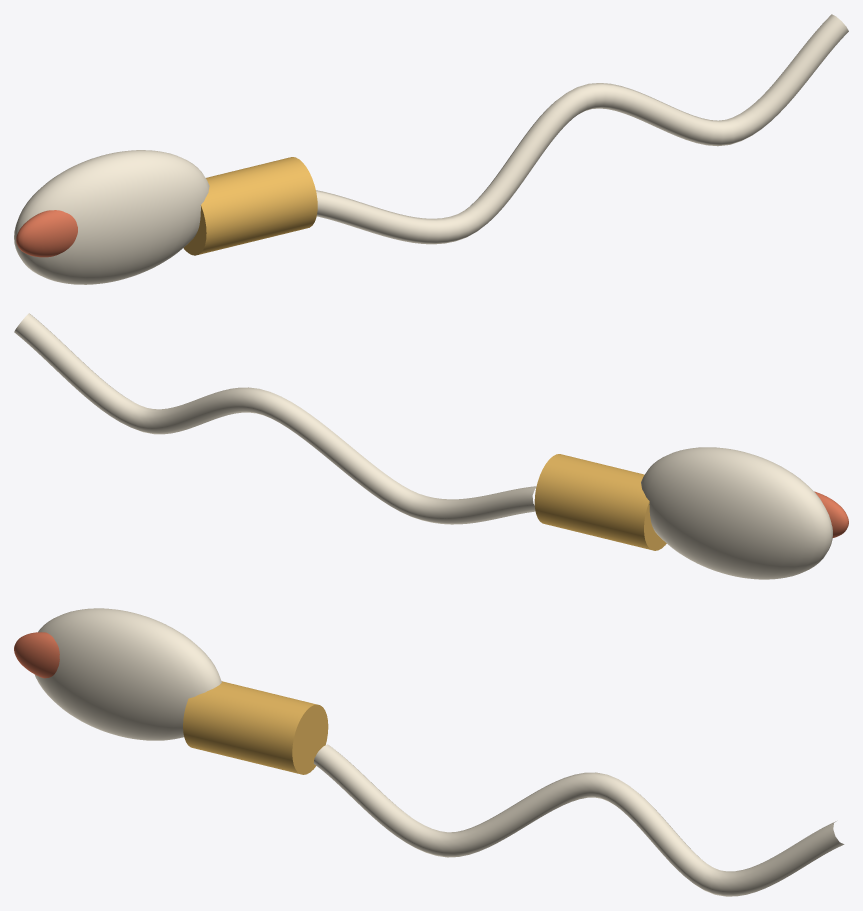
File: sperm-cell.glb
The picture shows the model from 3 angles, top to bottom: view 1: azimuth 30°, elevation 25°; view 2: azimuth 150°, elevation 25°; view 3: azimuth 330°, elevation 25°; orthographic projection.
Parts seen in each view (by area): view 1: dna-head, motile-flagellum, mitochondria-midpiece, acrosome-cap; view 2: dna-head, motile-flagellum, mitochondria-midpiece, acrosome-cap; view 3: dna-head, motile-flagellum, mitochondria-midpiece, acrosome-cap.
Part boxes in pixels (bbox=[...]): dna-head: bbox=[14, 150, 209, 284]; motile-flagellum: bbox=[316, 14, 848, 244]; mitochondria-midpiece: bbox=[183, 157, 317, 255]; acrosome-cap: bbox=[16, 210, 77, 257]; dna-head: bbox=[641, 447, 832, 579]; motile-flagellum: bbox=[14, 313, 536, 524]; mitochondria-midpiece: bbox=[534, 454, 666, 550]; acrosome-cap: bbox=[814, 491, 848, 537]; dna-head: bbox=[34, 608, 221, 740]; motile-flagellum: bbox=[313, 744, 844, 896]; mitochondria-midpiece: bbox=[183, 681, 328, 774]; acrosome-cap: bbox=[14, 632, 59, 678].
Size of what is drawn, in the model's own units: 2.11 by 0.3751 by 0.18.
